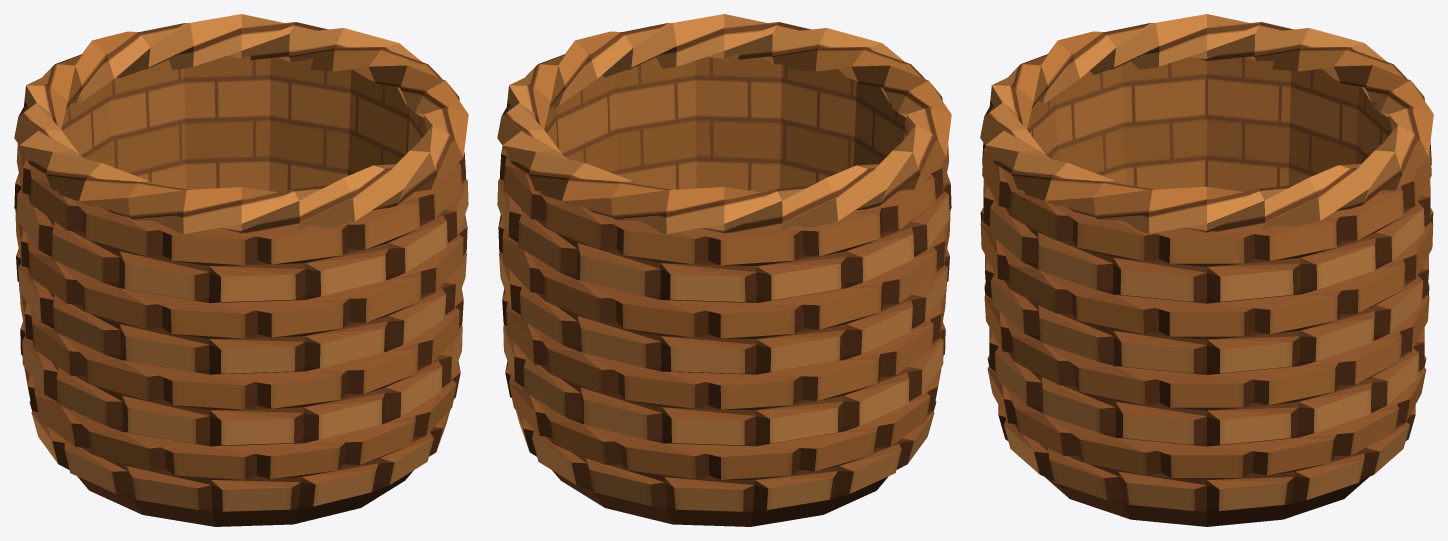
File: FMS_Crate_Basket_Small.fbx
3 renders of one model, left to right at view 1: azimuth 30°, elevation 25°; view 2: azimuth 150°, elevation 25°; view 3: azimuth 270°, elevation 25°, orthographic.
Visible parts, largest first — view 1: item_stalls_basket_small_v2; view 2: item_stalls_basket_small_v2; view 3: item_stalls_basket_small_v2.
Part boxes in pixels (box(x1,y1,x2,y2)): item_stalls_basket_small_v2: box(14, 14, 468, 526); item_stalls_basket_small_v2: box(497, 14, 951, 526); item_stalls_basket_small_v2: box(980, 14, 1433, 526).
Size of the model in its own units: 0.2991 by 0.253 by 0.2972.
